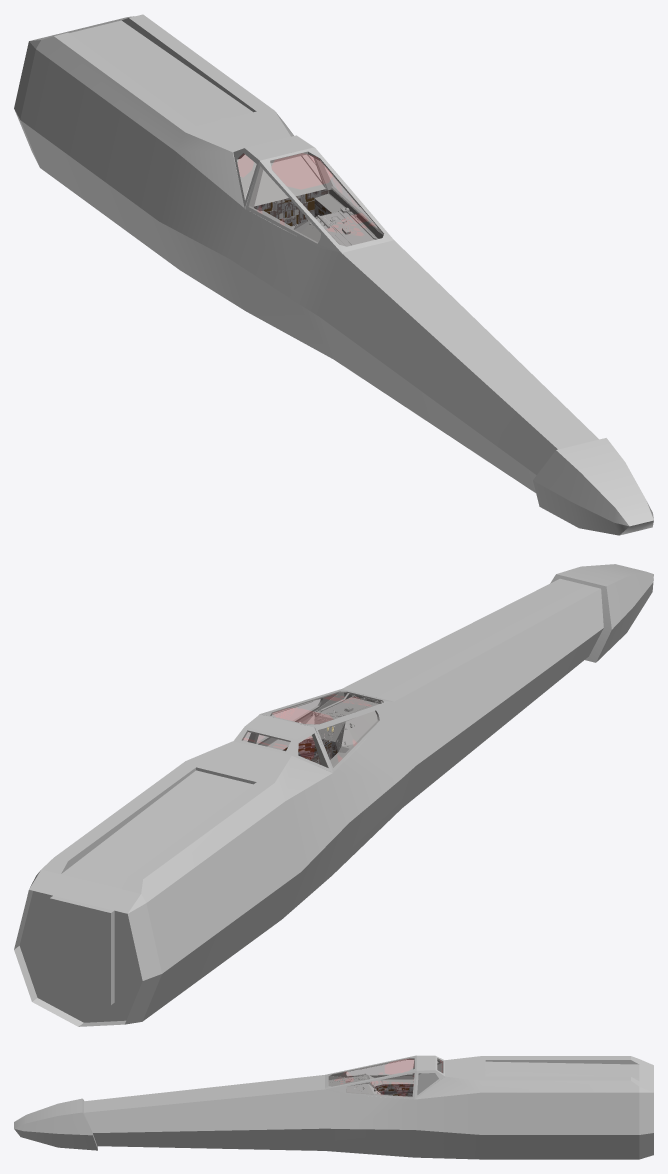
3 renders of one model, top to bottom at view 1: azimuth 30°, elevation 25°; view 2: azimuth 150°, elevation 25°; view 3: azimuth 270°, elevation 25°, orthographic. The views are drawn at different scales.
Parts seen in each view (by area): view 1: hull, windows, canopy, console, canopy_back, cockpit_1; view 2: hull, windows, console, canopy_back, canopy; view 3: hull, windows, canopy, console, canopy_back, cockpit_1.
Boxes of the visible parts, x1,y1,x2,y2 form: hull: (14, 14, 653, 535); windows: (237, 152, 383, 245); canopy: (245, 147, 393, 252); console: (260, 194, 376, 246); canopy_back: (233, 135, 326, 208); cockpit_1: (254, 189, 331, 226); hull: (14, 564, 653, 1026); windows: (242, 692, 382, 767); console: (267, 697, 378, 765); canopy_back: (233, 714, 332, 772); canopy: (255, 689, 393, 772); hull: (14, 1056, 653, 1159); windows: (329, 1059, 442, 1096); canopy: (325, 1055, 416, 1099); console: (328, 1075, 413, 1094); canopy_back: (414, 1055, 444, 1098); cockpit_1: (374, 1084, 413, 1096).
Size of the model in its own units: 2.12 by 2.29 by 14.58.
